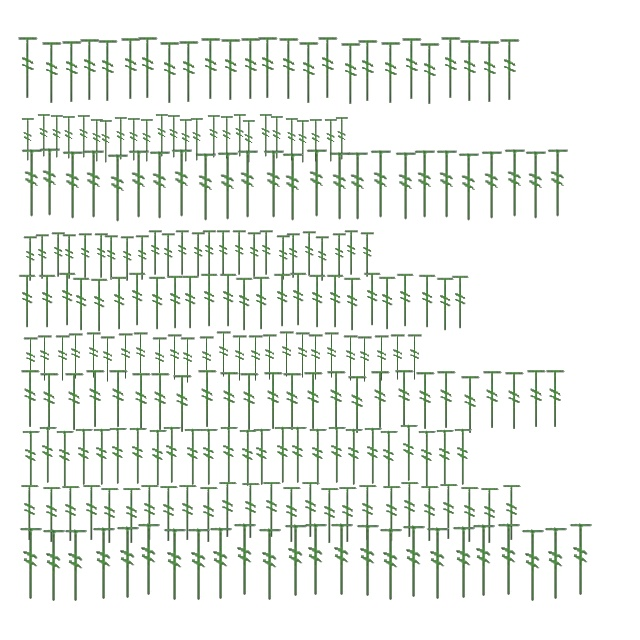fan: (17, 524, 45, 604), (40, 526, 68, 606), (62, 526, 90, 606), (90, 524, 118, 604), (135, 520, 163, 600), (207, 524, 235, 604), (231, 520, 259, 600), (302, 520, 330, 600), (328, 520, 356, 600), (400, 522, 428, 602), (424, 524, 452, 604), (495, 520, 523, 600), (519, 526, 547, 606), (542, 524, 570, 604), (567, 520, 595, 600), (114, 524, 142, 602), (161, 526, 189, 604), (185, 526, 213, 604), (256, 526, 284, 604), (282, 522, 310, 600), (354, 522, 382, 600), (377, 526, 405, 604), (450, 524, 478, 602), (470, 522, 498, 600), (19, 146, 45, 220), (37, 145, 63, 219), (60, 148, 86, 222), (81, 147, 107, 221), (105, 151, 131, 225), (126, 147, 152, 221), (147, 148, 173, 222), (169, 146, 195, 220), (193, 150, 219, 224), (215, 149, 241, 223), (235, 147, 261, 221), (261, 147, 287, 221), (280, 150, 306, 224), (304, 146, 330, 220), (327, 149, 353, 223), (345, 149, 371, 223), (368, 147, 394, 221), (393, 149, 419, 223), (412, 147, 438, 221), (434, 147, 460, 221), (456, 150, 482, 224), (479, 148, 505, 222), (502, 146, 528, 220), (523, 148, 549, 222), (545, 146, 571, 220), (40, 40, 64, 106), (96, 38, 120, 104), (119, 36, 143, 102), (158, 40, 182, 106), (199, 36, 223, 102), (239, 36, 263, 102), (277, 36, 301, 102), (297, 40, 321, 106), (356, 38, 380, 104), (379, 40, 403, 106), (400, 36, 424, 102), (458, 38, 482, 104), (16, 36, 40, 100), (60, 40, 84, 104), (78, 38, 102, 102), (136, 36, 160, 100), (177, 40, 201, 104), (219, 38, 243, 102), (256, 36, 280, 100), (316, 36, 340, 100), (339, 42, 363, 106), (418, 42, 442, 106), (439, 36, 463, 100), (478, 40, 502, 104), (498, 38, 522, 102), (84, 368, 108, 430), (196, 368, 220, 430), (218, 370, 242, 432), (262, 370, 286, 432), (302, 370, 326, 432), (346, 374, 370, 436), (414, 370, 438, 432), (544, 368, 568, 430), (38, 372, 62, 432), (130, 372, 154, 432), (238, 372, 262, 432), (20, 368, 42, 430), (108, 368, 130, 430), (394, 368, 416, 430), (460, 374, 482, 436), (504, 370, 526, 432), (526, 368, 548, 430), (20, 428, 42, 490), (37, 424, 59, 486), (54, 428, 76, 490), (73, 426, 95, 488), (91, 426, 113, 488), (107, 425, 129, 487), (127, 425, 149, 487), (147, 427, 169, 489), (161, 424, 183, 486), (182, 426, 204, 488), (198, 426, 220, 488), (218, 424, 240, 486), (237, 427, 259, 489), (251, 426, 273, 488), (272, 424, 294, 486), (287, 424, 309, 486), (307, 426, 329, 488), (326, 424, 348, 486), (343, 426, 365, 488), (362, 425, 384, 487), (378, 428, 400, 490), (398, 422, 420, 484), (416, 428, 438, 490), (434, 427, 456, 489), (452, 426, 474, 488), (64, 372, 86, 432), (150, 372, 172, 432), (172, 374, 194, 434), (282, 372, 304, 432), (326, 370, 348, 430), (370, 370, 392, 430), (436, 370, 458, 430), (482, 370, 504, 430), (60, 484, 82, 544), (99, 486, 121, 546), (121, 486, 143, 546), (158, 484, 180, 544), (217, 480, 239, 540), (261, 480, 283, 540), (300, 480, 322, 540), (319, 486, 341, 546), (381, 484, 403, 544), (399, 480, 421, 540), (419, 484, 441, 544), (438, 482, 460, 542), (479, 486, 501, 546), (19, 484, 41, 542), (41, 486, 63, 544), (81, 484, 103, 542), (139, 484, 161, 542), (177, 484, 199, 542), (198, 486, 220, 544), (240, 482, 262, 540), (281, 486, 303, 544), (337, 486, 359, 544), (357, 484, 379, 542), (459, 486, 481, 544), (501, 484, 523, 542), (180, 274, 202, 330), (218, 272, 240, 328), (234, 276, 256, 332), (272, 272, 294, 328), (288, 271, 310, 327), (342, 276, 364, 332), (362, 271, 384, 327), (450, 274, 472, 330), (18, 273, 38, 329), (38, 273, 58, 329), (58, 271, 78, 327), (72, 276, 92, 332), (90, 277, 110, 333), (110, 275, 130, 331), (128, 271, 148, 327), (148, 275, 168, 331), (166, 274, 186, 330), (200, 272, 220, 328), (252, 275, 272, 331), (308, 273, 328, 329), (326, 273, 346, 329), (378, 275, 398, 331), (396, 272, 416, 328), (418, 273, 438, 329), (436, 276, 456, 332), (134, 234, 152, 282), (160, 232, 178, 280), (22, 336, 40, 384), (36, 334, 54, 382), (54, 334, 72, 382), (67, 332, 85, 380), (85, 331, 103, 379), (99, 335, 117, 383), (117, 332, 135, 380), (132, 331, 150, 379), (151, 336, 169, 384), (166, 333, 184, 381), (179, 336, 197, 384), (198, 335, 216, 383), (215, 330, 233, 378), (231, 334, 249, 382), (247, 334, 265, 382), (261, 333, 279, 381), (278, 330, 296, 378), (294, 331, 312, 379), (307, 333, 325, 381), (323, 331, 341, 379), (342, 334, 360, 382), (356, 335, 374, 383), (373, 334, 391, 382), (389, 333, 407, 381), (406, 333, 424, 381), (22, 236, 40, 282), (34, 234, 52, 280), (50, 232, 68, 278), (174, 230, 192, 276), (190, 232, 208, 278), (246, 232, 264, 278), (258, 230, 276, 276), (314, 236, 332, 282), (20, 116, 36, 164), (36, 112, 52, 160), (61, 114, 77, 162), (98, 118, 114, 166), (126, 116, 142, 164), (154, 112, 170, 160), (189, 116, 205, 164), (219, 114, 235, 162), (232, 112, 248, 160), (241, 118, 257, 166), (258, 112, 274, 160), (269, 114, 285, 162), (284, 116, 300, 164), (295, 118, 311, 166), (78, 232, 94, 280), (94, 232, 110, 280), (104, 234, 120, 282), (276, 234, 292, 282), (286, 232, 302, 280), (302, 230, 318, 278), (332, 232, 348, 280), (49, 114, 65, 160), (76, 114, 92, 160), (89, 118, 105, 164), (113, 116, 129, 162), (139, 118, 155, 164), (166, 114, 182, 160), (178, 118, 194, 164), (206, 114, 222, 160), (308, 118, 324, 164), (323, 118, 339, 164), (334, 116, 350, 162), (62, 234, 78, 280), (120, 236, 136, 282), (148, 230, 164, 276), (202, 230, 218, 276), (216, 230, 232, 276), (232, 230, 248, 276), (344, 230, 360, 276), (360, 232, 376, 278)
